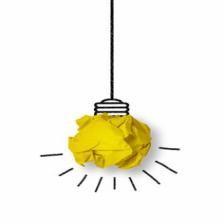yellow: (68, 114, 152, 170)
